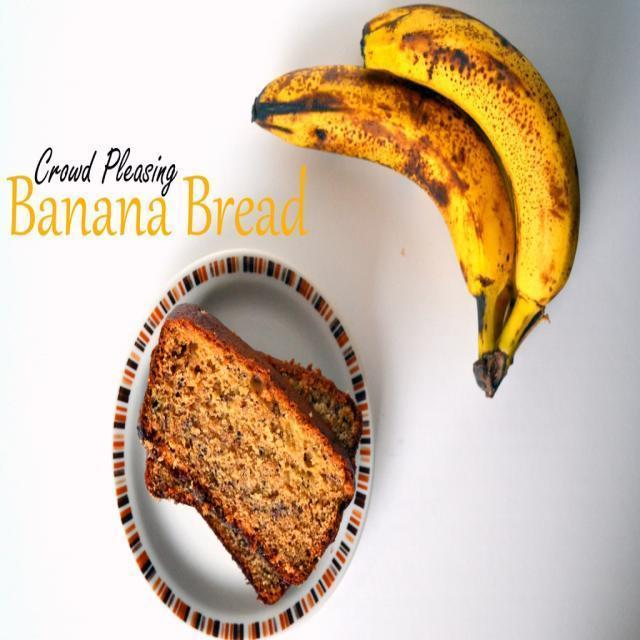Banana: (237, 17, 588, 403)
